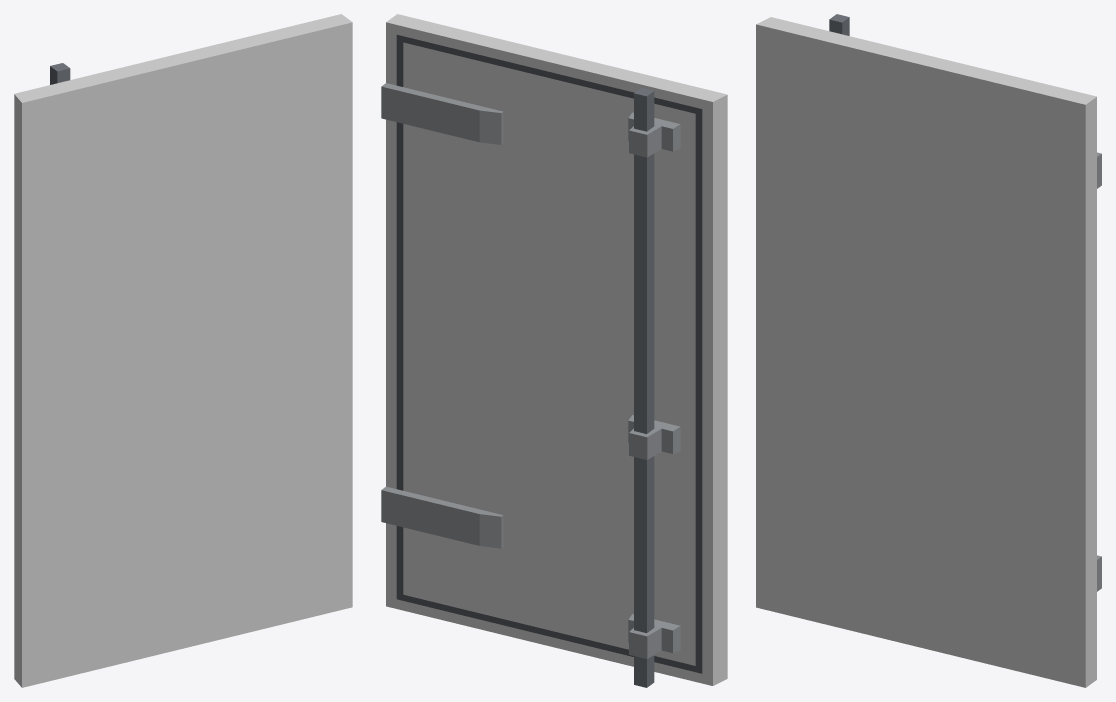
Rendered from SM_Veh_Truck_Attachment_Delivery_Door_L_811.obj.
3 views of the same model, side by side, from view 1: azimuth 30°, elevation 25°; view 2: azimuth 150°, elevation 25°; view 3: azimuth 330°, elevation 25° (orthographic).
Visible parts, largest first — view 1: SM_Veh_Truck_Attachment_Delivery_Door_L_0; view 2: SM_Veh_Truck_Attachment_Delivery_Door_L_0; view 3: SM_Veh_Truck_Attachment_Delivery_Door_L_0.
Boxes of the visible parts, x1,y1,x2,y2 form: SM_Veh_Truck_Attachment_Delivery_Door_L_0: [14, 14, 352, 687]; SM_Veh_Truck_Attachment_Delivery_Door_L_0: [381, 14, 727, 687]; SM_Veh_Truck_Attachment_Delivery_Door_L_0: [756, 14, 1101, 687].
Bounding box in the file's own units: 1.14 × 1.96 × 0.1781.
Materials: 1 (1 with a texture image).
